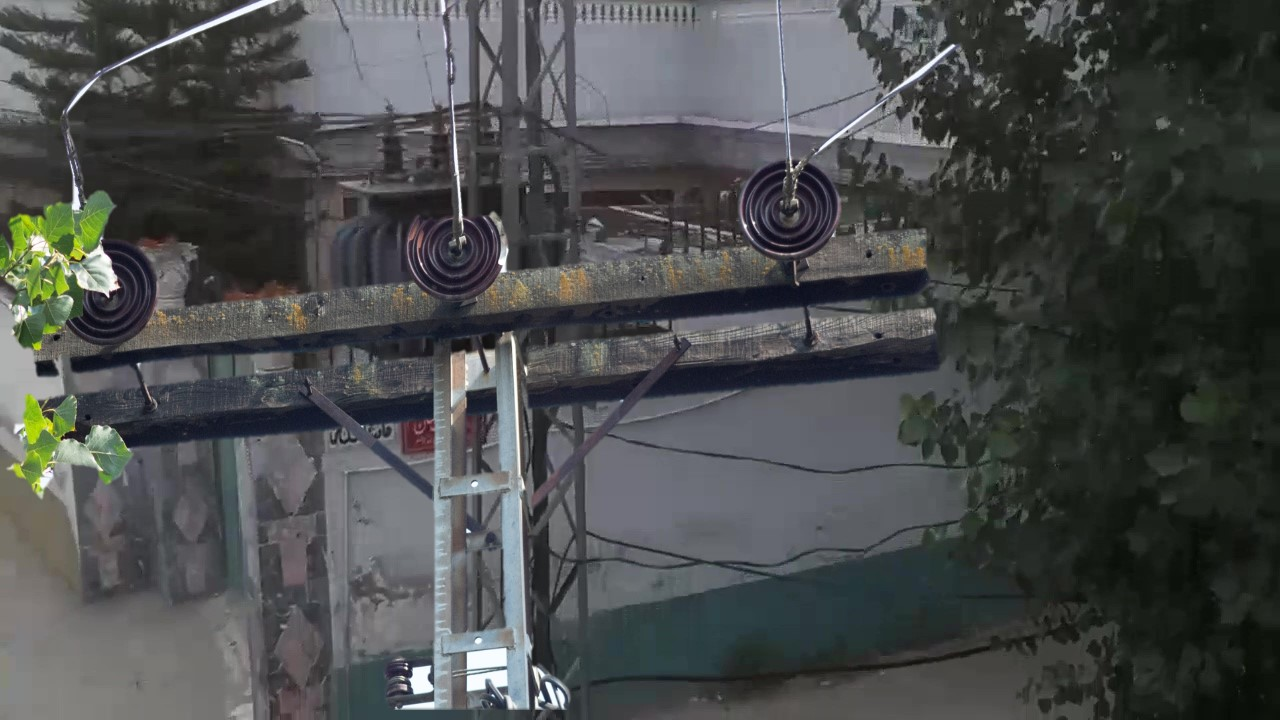defect_disc: (401, 197, 518, 304)
insulator_disc: (734, 154, 847, 261), (66, 231, 168, 344)
